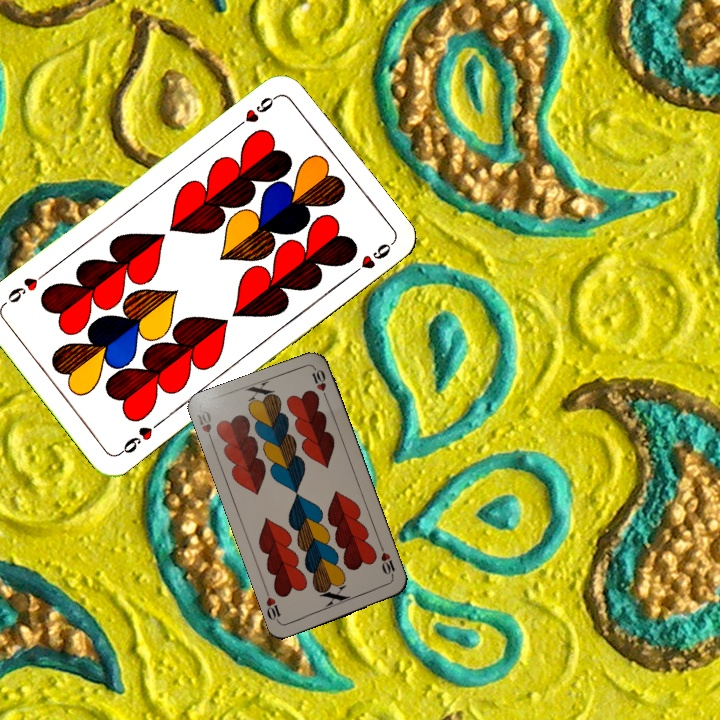H10: (193, 406, 216, 447), (376, 542, 398, 582)
H9: (114, 416, 165, 458), (230, 91, 280, 133)
